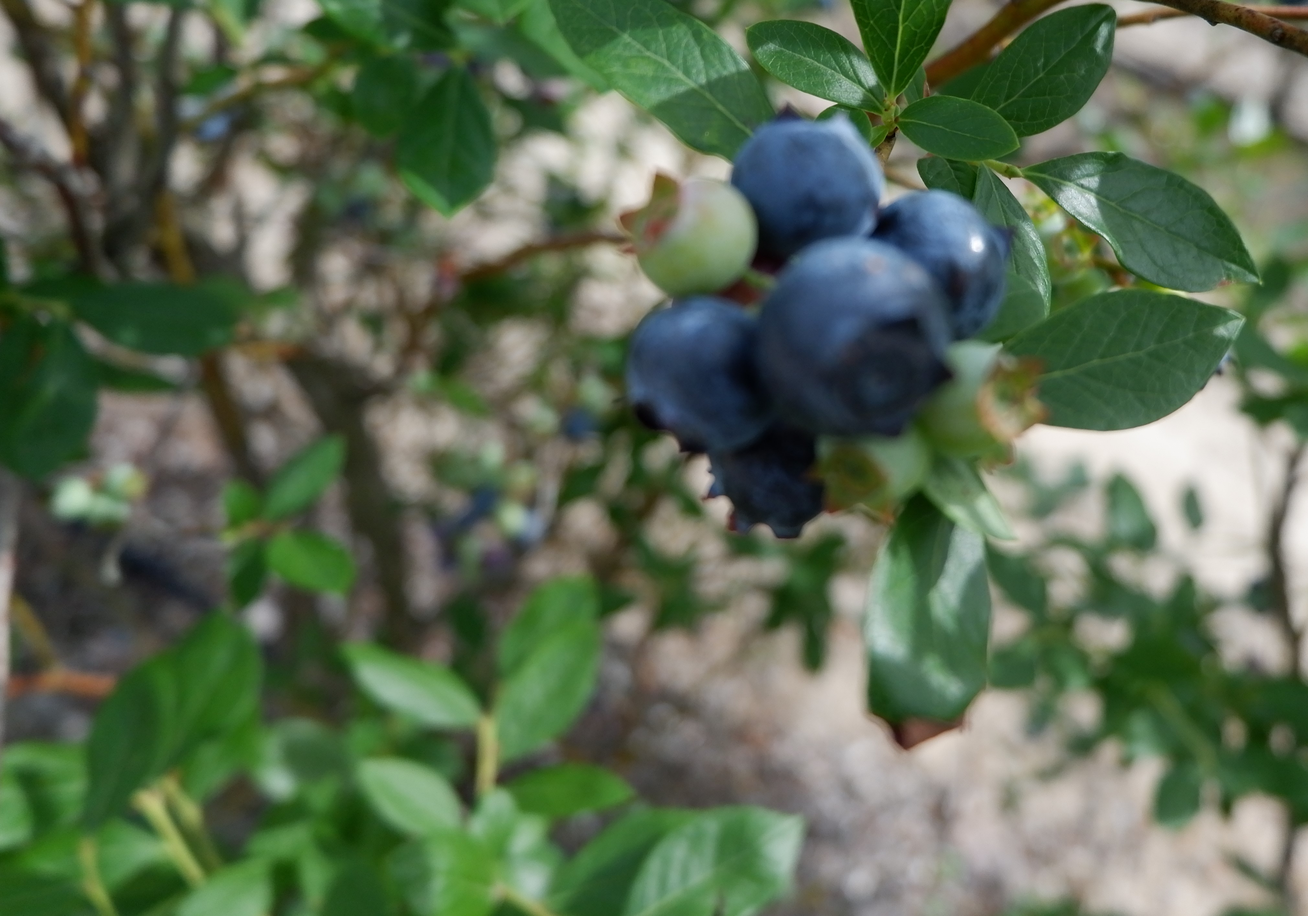Immature: (631, 181, 758, 294), (915, 349, 1030, 455), (818, 431, 930, 512)
Mature: (763, 238, 950, 434), (628, 296, 774, 449), (736, 118, 884, 267), (875, 193, 1006, 337), (704, 420, 823, 538)
